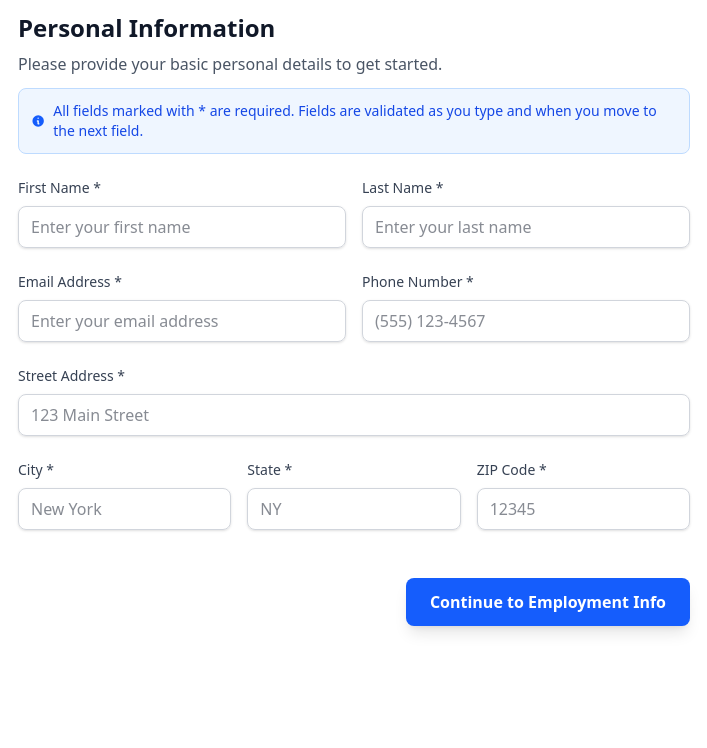
PersonalInfoForm Email Validation › shows validation error on form submission with empty email
The image size is (707, 748).
Try to submit form without filling email
Click the button "Continue to Employment Info".
click(548, 602)  # box [406,578,690,626]
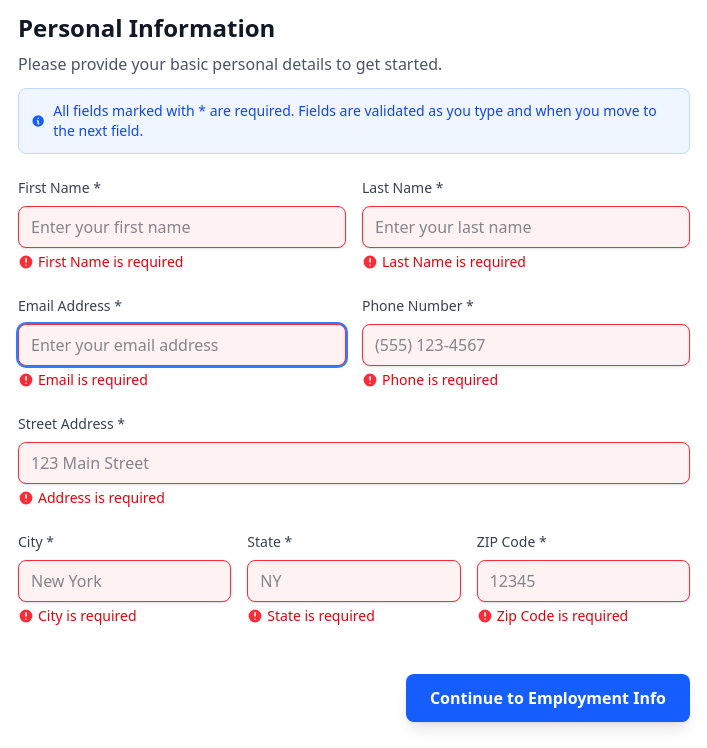
Check: the text "Email is required" is shown, box [38,370,148,390]
